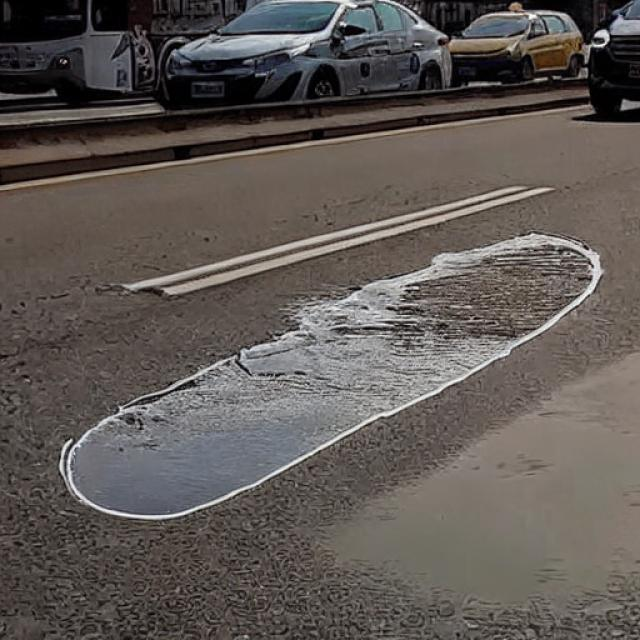puddle: (65, 233, 594, 524)
